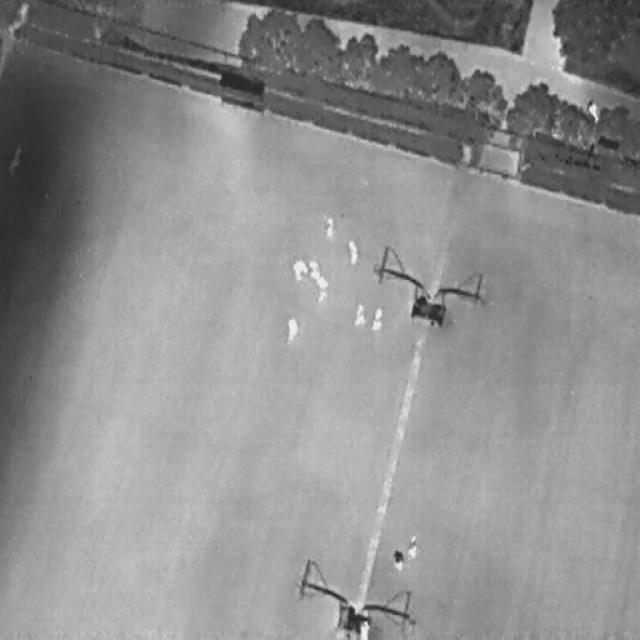Person: (314, 276, 328, 302), (292, 258, 306, 282), (285, 315, 297, 343), (306, 256, 320, 279), (391, 548, 403, 572), (371, 306, 382, 332), (586, 98, 598, 121), (354, 300, 365, 324), (406, 534, 418, 556), (348, 239, 357, 266), (323, 214, 333, 238)
